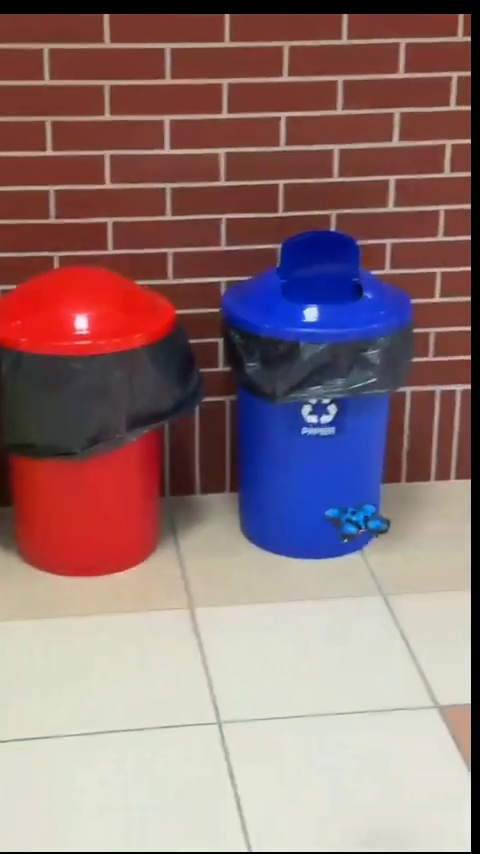drone: (325, 504, 392, 544)
